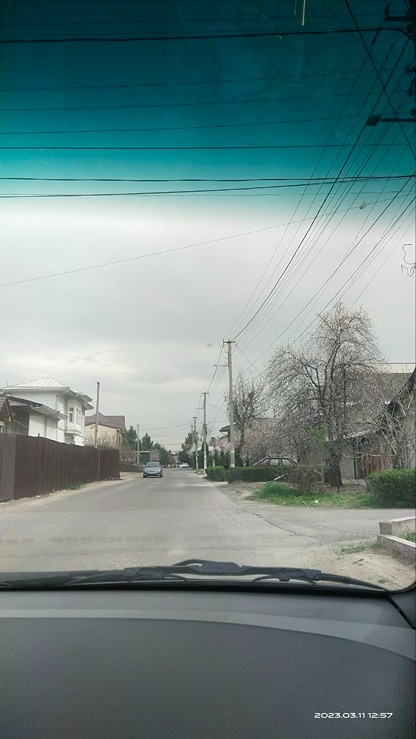car: (140, 457, 170, 479)
tree: (264, 305, 404, 480), (214, 373, 266, 463)
